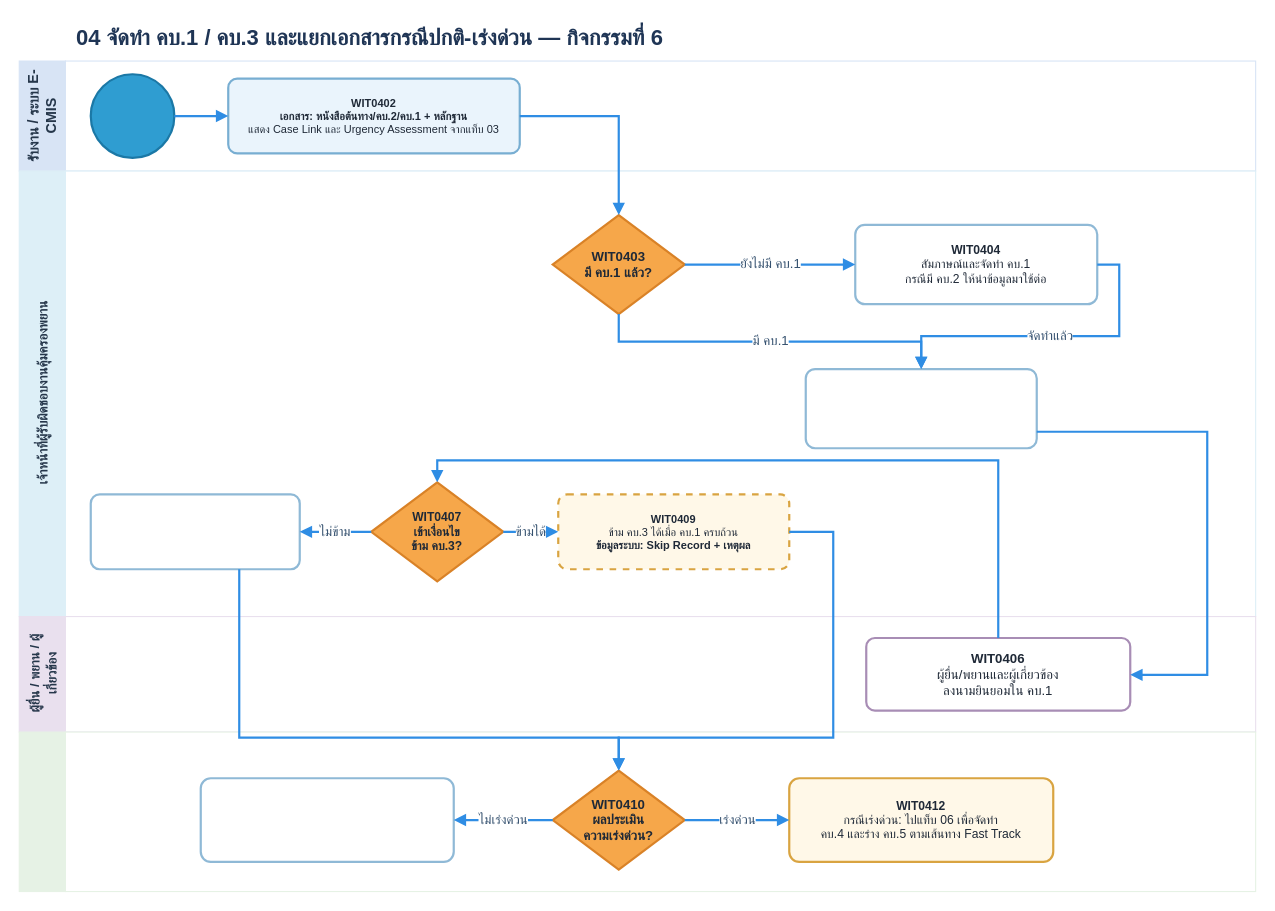
The diagram is 1275 pixels wide and 911 high, and some of its shapes have lost their labels. The shapes that lost their labels are listed below. From the top down, each one's box as (x1, y1, x2, y2) in pixels, then its label:
(89, 73, 175, 158): WIT0401 รับงานจาก แท็บ 03
(804, 367, 1037, 449): WIT0405 ตรวจและยืนยันข้อมูล คบ.1 พร้อมหลักฐานประกอบ
(89, 493, 300, 570): WIT0408 จัดทำ คบ.3 บันทึกข้อเท็จจริงประกอบคำร้อง
(18, 731, 65, 892): แยกเอกสารตามผลประเมินความเร่งด่วน
(199, 777, 454, 862): WIT0411 กรณีไม่เร่งด่วน: จัดทำ คบ.6 บันทึกเสนอความเห็น แล้วไปแท็บ 05 เส้นทางปกติ
